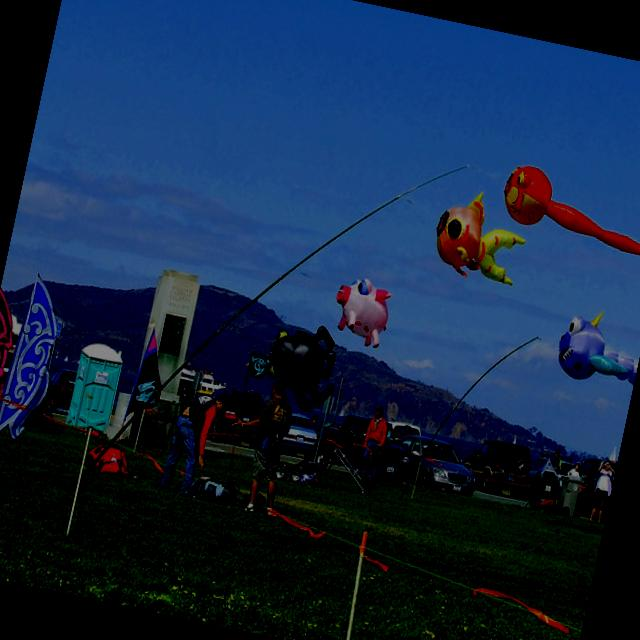Vehicle: (316, 408, 418, 484), (387, 429, 485, 498), (458, 434, 536, 503), (196, 382, 268, 449), (202, 383, 268, 450), (574, 468, 614, 522), (280, 410, 322, 460), (524, 454, 564, 498), (43, 366, 77, 414), (577, 454, 617, 484)
